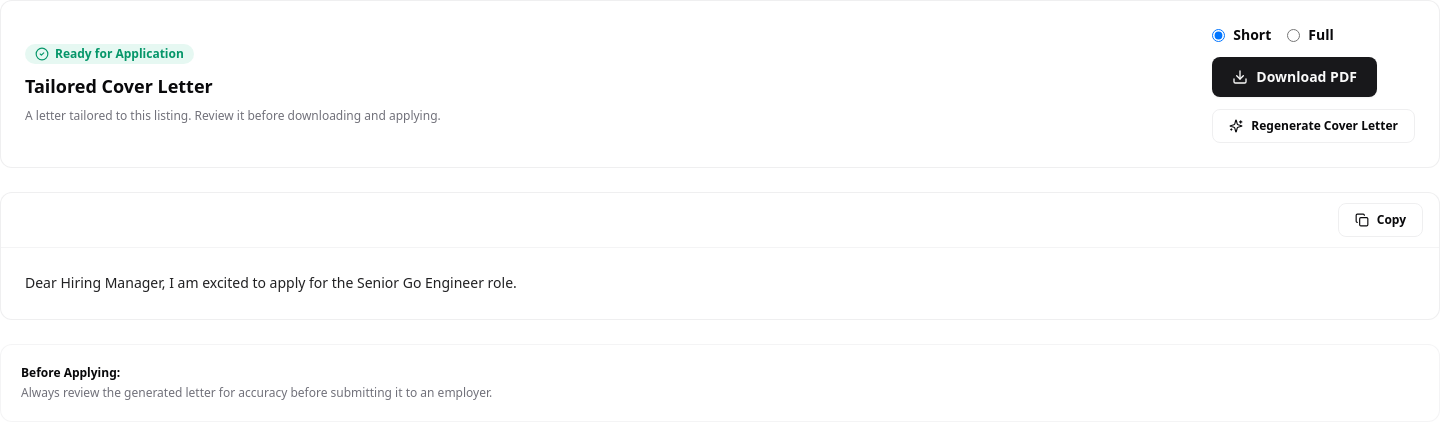
Scenario: CoverLetterTab component › copies the cover letter text and shows feedback when Copy is clicked
The image size is (1440, 439).
What coordinates should you click on to do the following:
click the button with aria-label "Copy cover letter"
I would click on:
 (1380, 220)
Its box is [1338,203,1423,237].
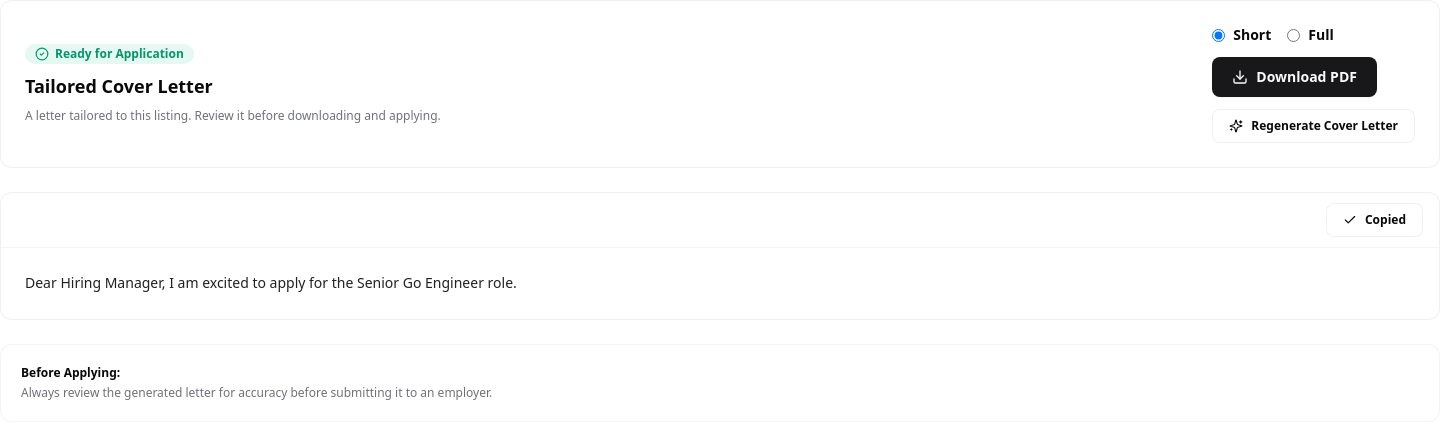
Check: the button with aria-label "Cover letter copied" is shown, box [1326,203,1423,237]
